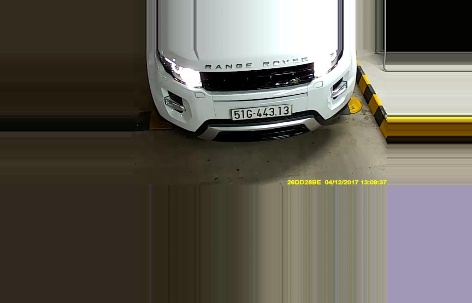plate: (229, 99, 295, 123)
